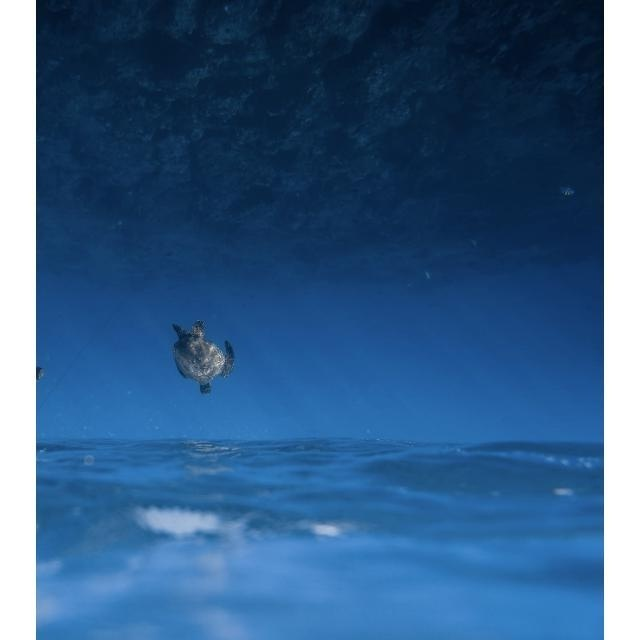turtle: (171, 321, 235, 395)
